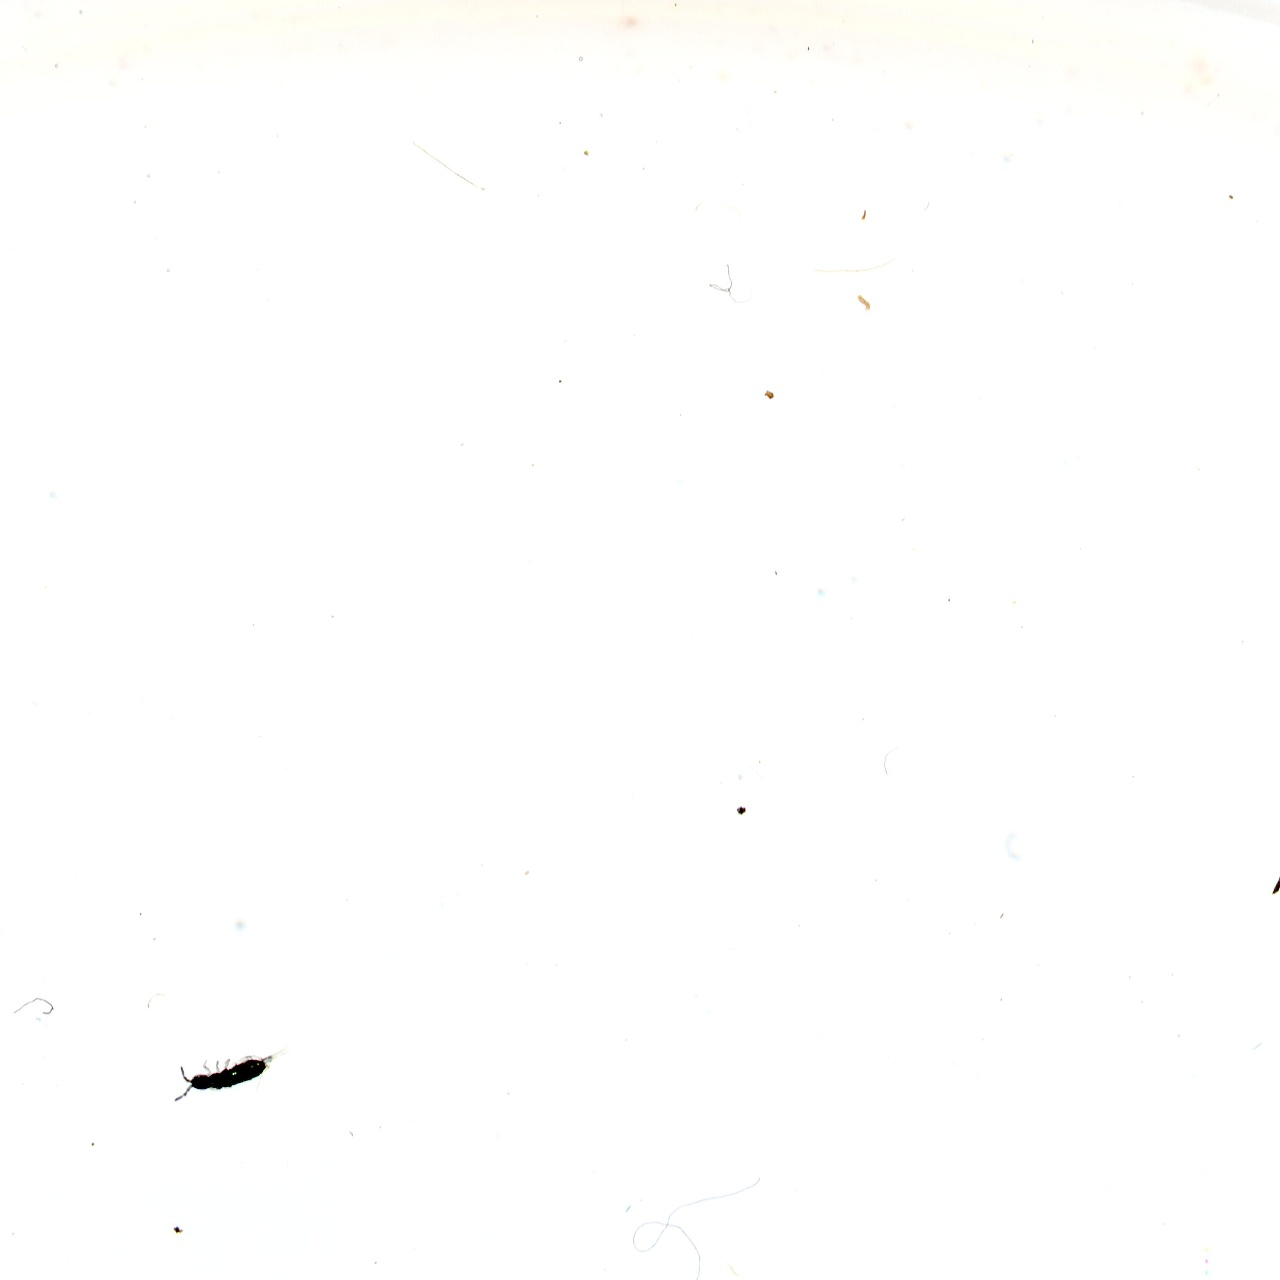arthropod: (159, 1028, 309, 1114)
